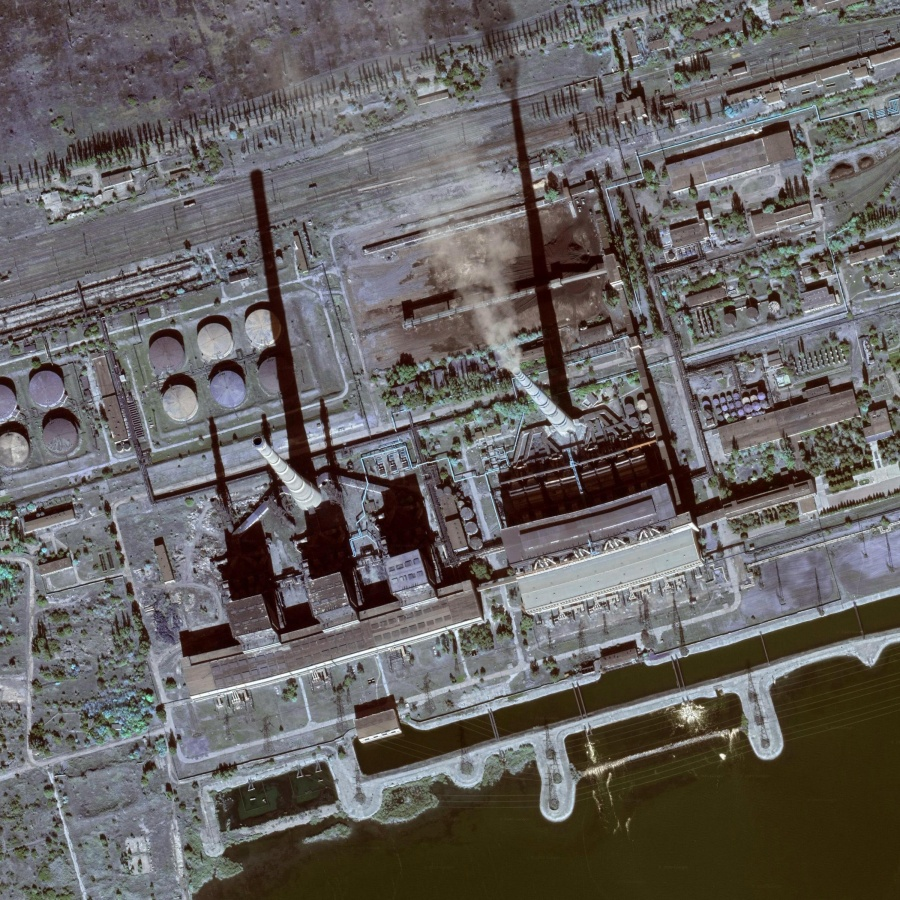PowerPlant: (122, 76, 720, 692)
